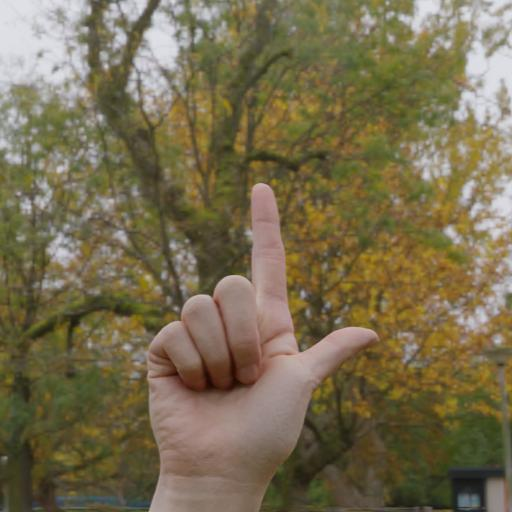L: (144, 178, 385, 486)
